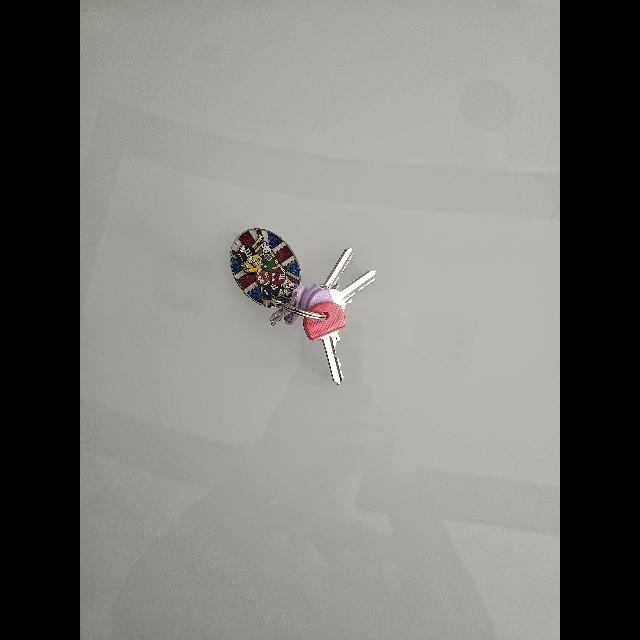Keys: (231, 232, 373, 384)
